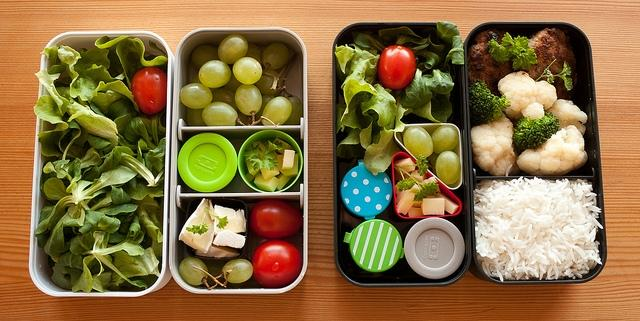broccoli: (512, 112, 560, 154), (468, 80, 512, 124)
cauliflower: (516, 125, 588, 176), (498, 71, 558, 120), (471, 118, 516, 176), (546, 99, 588, 137)
grape: (402, 126, 433, 158), (198, 60, 232, 88), (218, 34, 248, 64), (262, 96, 292, 126), (235, 83, 262, 116), (179, 257, 209, 286), (202, 102, 238, 126), (232, 56, 262, 84), (180, 83, 212, 109), (222, 258, 254, 284), (436, 150, 460, 184), (431, 125, 459, 154), (262, 42, 289, 70), (192, 45, 222, 69), (282, 95, 304, 126), (256, 68, 282, 94), (210, 88, 238, 112), (224, 69, 243, 94), (244, 43, 263, 66), (187, 107, 208, 126)
lettuce: (340, 42, 380, 130), (360, 84, 398, 149), (68, 105, 119, 143), (402, 68, 432, 108), (426, 69, 454, 94), (95, 202, 138, 215), (84, 185, 112, 204), (52, 160, 73, 182), (62, 208, 85, 226), (73, 124, 89, 148), (88, 100, 109, 118)
tomato: (252, 239, 302, 288), (249, 200, 304, 240), (130, 66, 168, 114), (377, 46, 416, 89)
